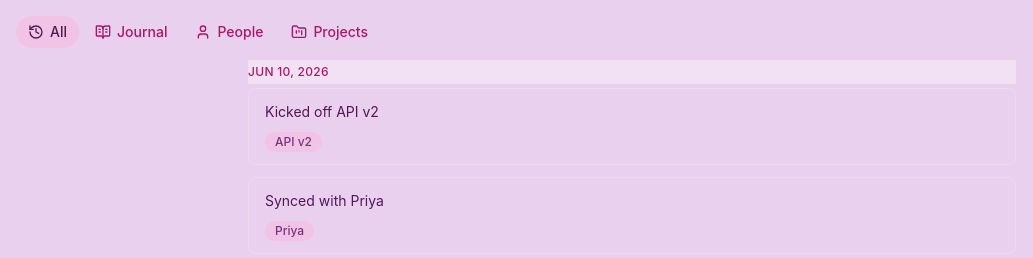
Test case: TimelineView › the Projects tab shows only entries with a project reference
Expected: the text "Kicked off API v2" is shown, [265,103,379,120]
Expected: the text "Synced with Priya" is shown, [265,192,384,209]
Click the button "Projects".
click(330, 32)  # box [279,16,380,48]
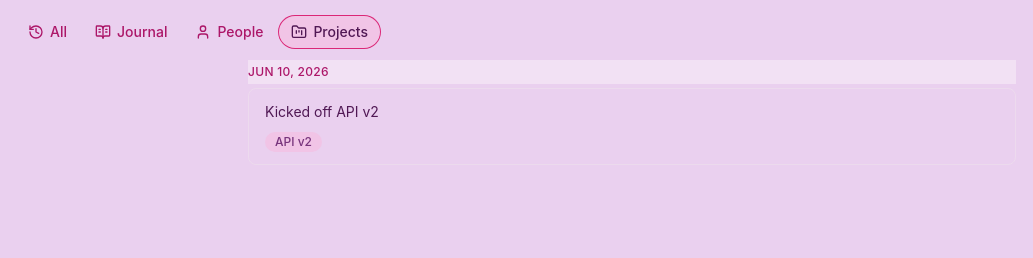
Expected: the text "Kicked off API v2" is shown, [265,103,379,120]
Expected: the text "Synced with Priya" is gone
